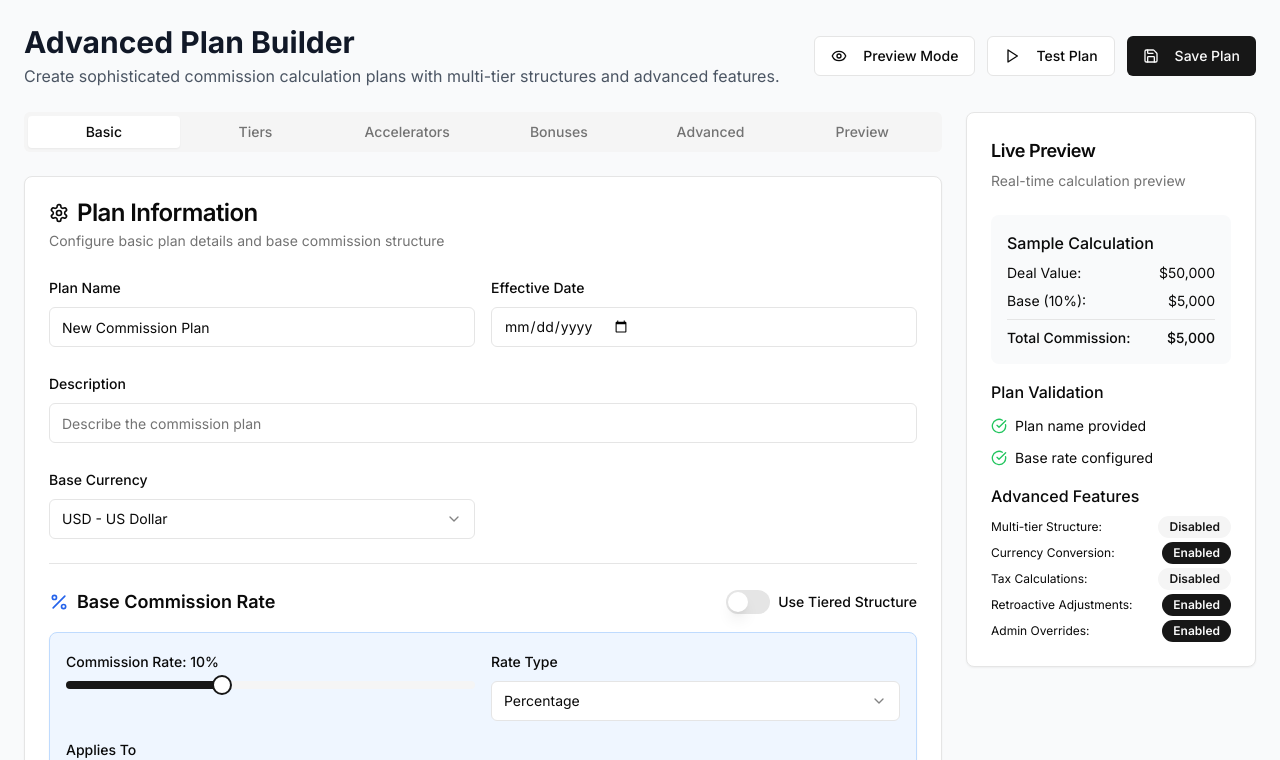
Test: PlanBuilder › shows success message after saving
Click the button "Save Plan" at x=1191, y=56, box x1=1127 y1=36 x2=1256 y2=76
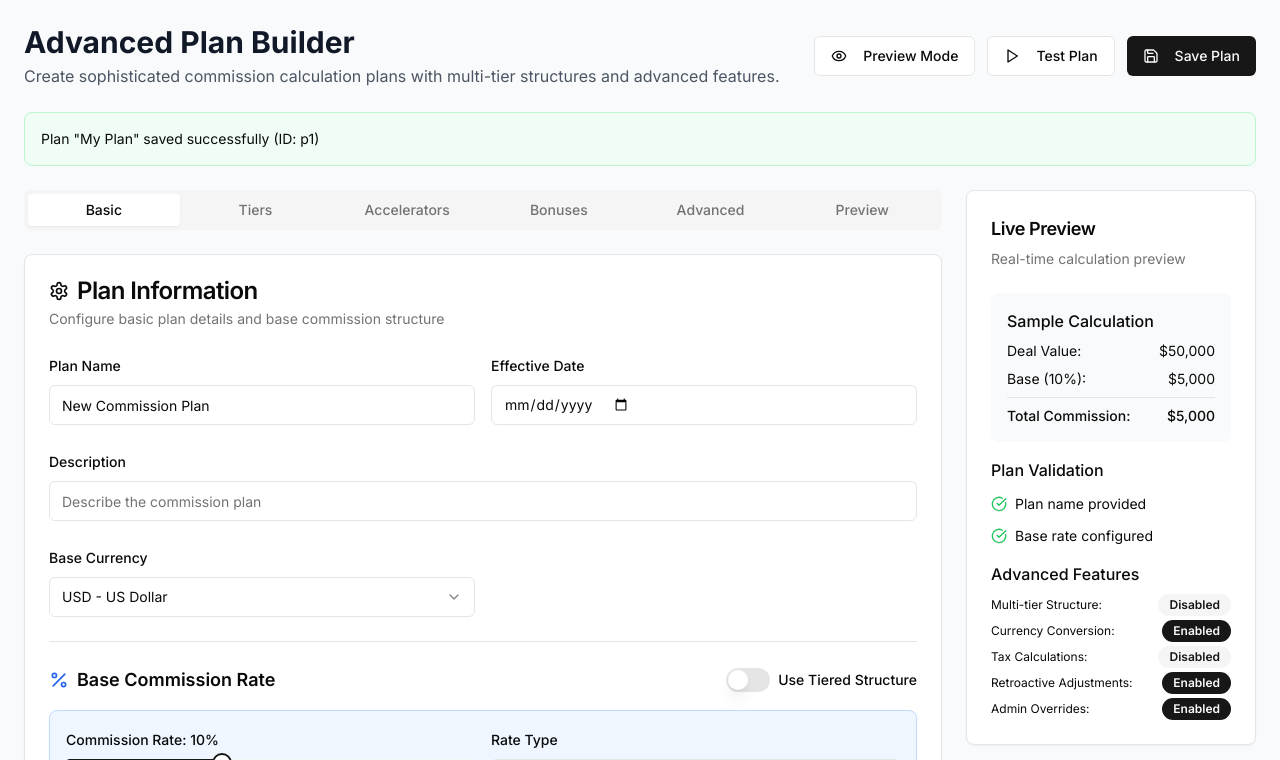
Expected: the text "Plan \"My Plan\" saved successfully (ID: p1)" is shown, x1=41 y1=130 x2=319 y2=147
